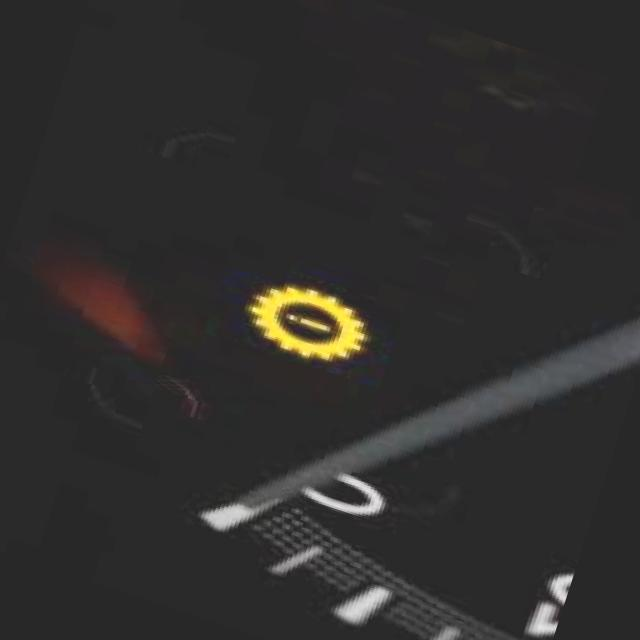kontrolka: (226, 260, 386, 382)
